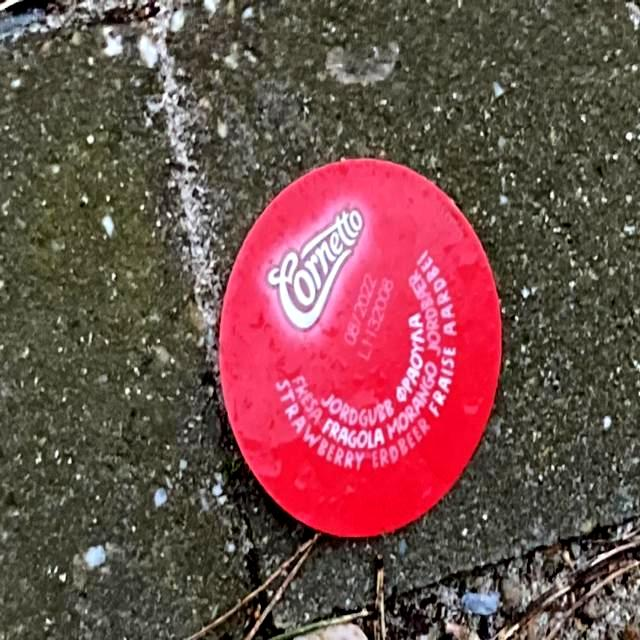Paper: (214, 153, 506, 542)
